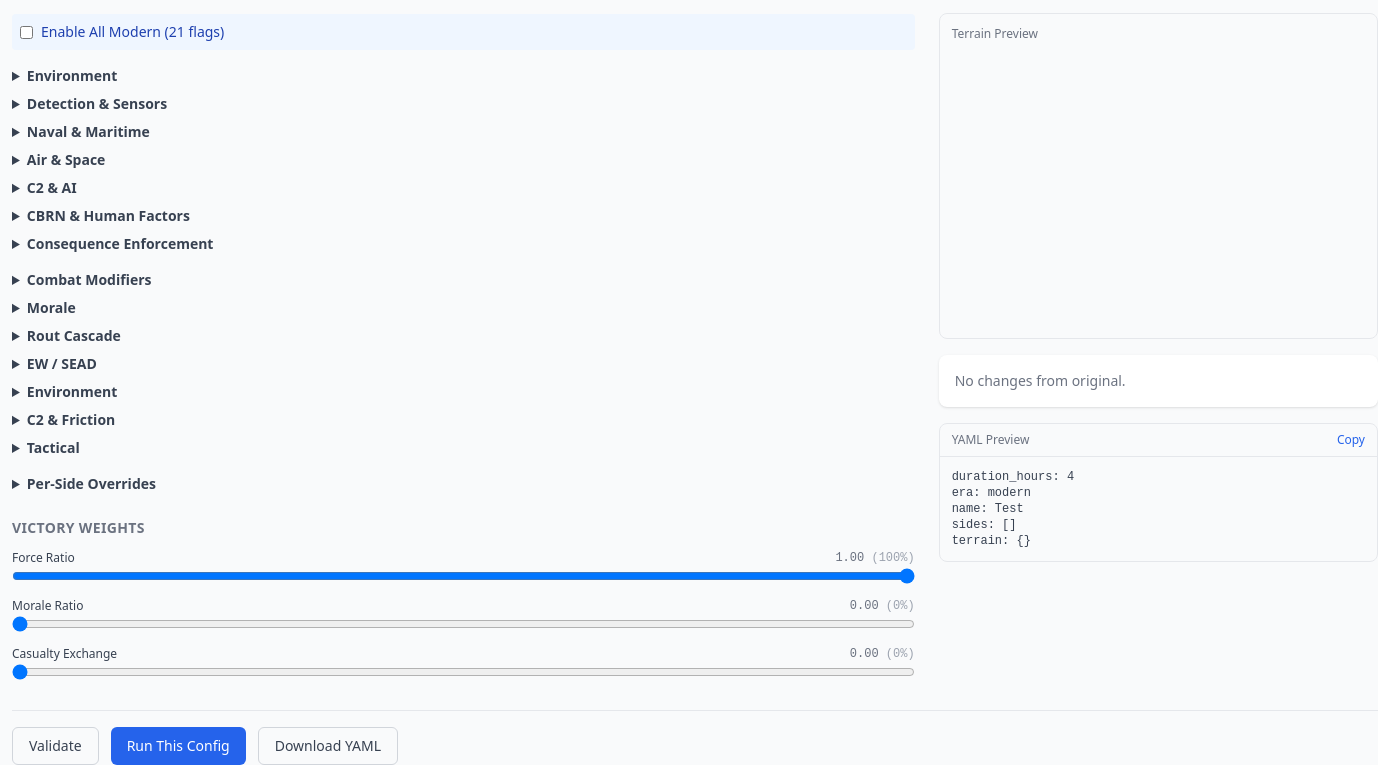
Test: ScenarioEditorPage accessibility › validation errors have role=alert
(page scrolled)
Click the button "Validate": [55, 746] box [12,727,99,764]
(page scrolled)
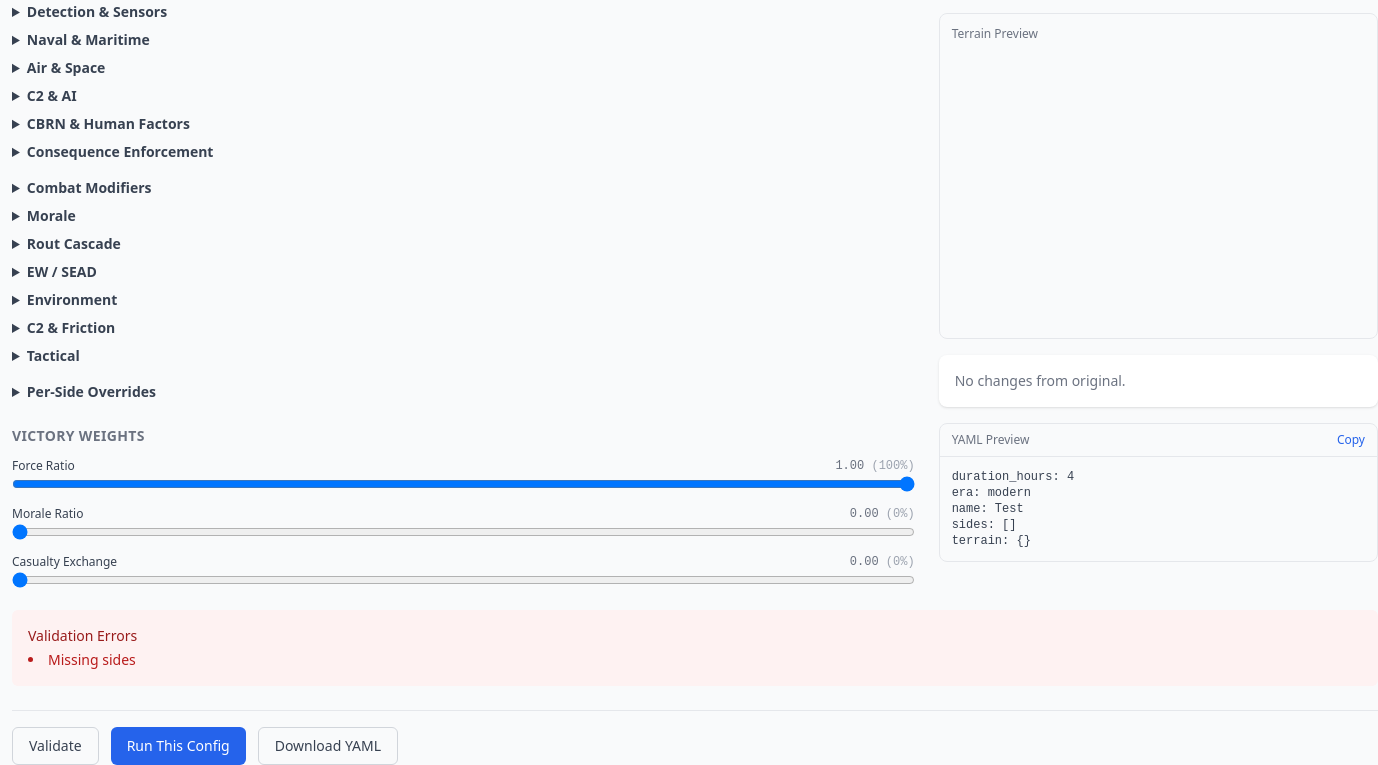
expect the message "Validation Errors Missing sides" is shown: met, box [12,610,1377,686]
